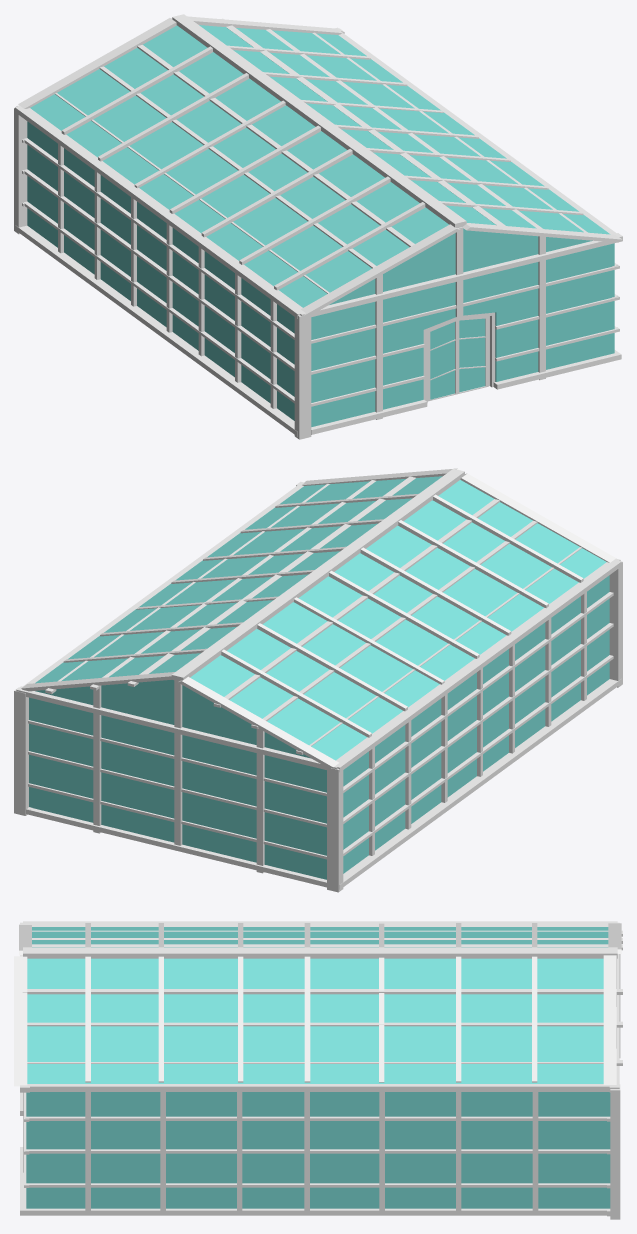
File: greenhouse03.fbx
3 views of the same model, one above another, from view 1: azimuth 30°, elevation 25°; view 2: azimuth 150°, elevation 25°; view 3: azimuth 270°, elevation 25° (orthographic). The views are drawn at different scales.
Visible parts, largest first — view 1: greenhouse03, greenhouse03door; view 2: greenhouse03; view 3: greenhouse03.
Part boxes in pixels (bbox=[...]): greenhouse03: bbox=[14, 14, 622, 439]; greenhouse03door: bbox=[427, 316, 489, 401]; greenhouse03: bbox=[14, 468, 622, 892]; greenhouse03: bbox=[14, 921, 622, 1219].
Size of the model in its own units: 789 by 410 by 1214.
